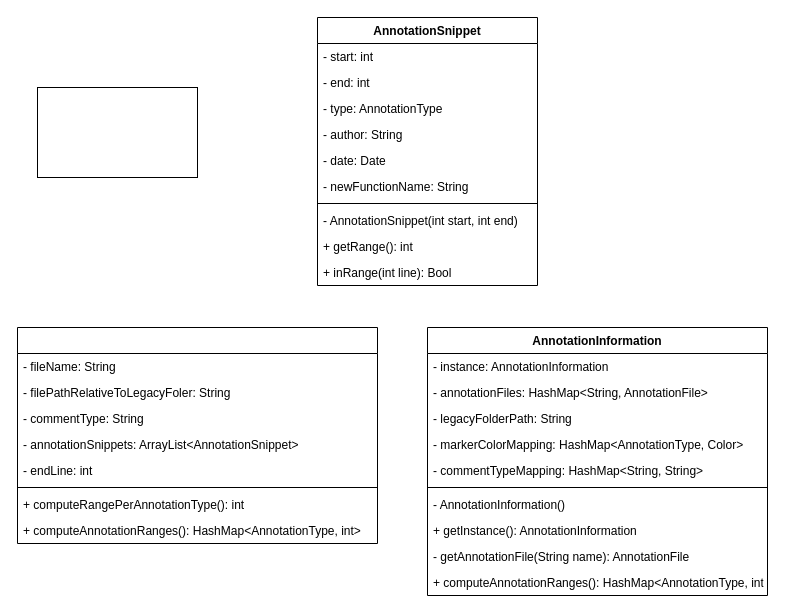
This 787x616 diagram has some shape labels left out. The shapes that lost their labels are listed below. From the top down, each one's box as (x1, y1, x2, y2) in pixels, then its label:
(36, 86, 198, 178): Enum:AnnotationType Migrated Later Unused Unmarked
(16, 326, 378, 544): AnnotationFile
